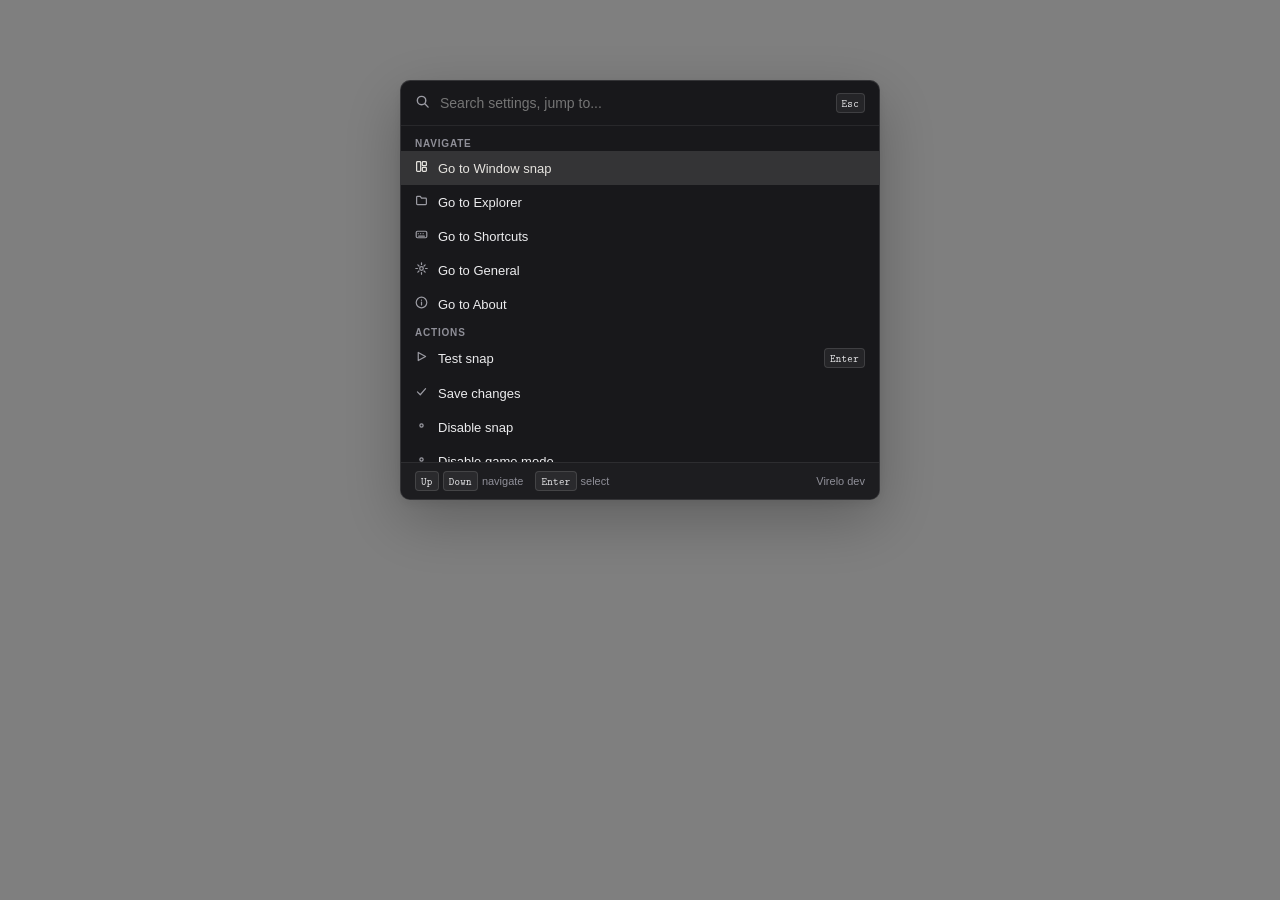
Test case: CommandPalette › Shows a no-results message for an unmatched filter.
Type "zzzznonexistent" into the dropdown named "Search commands" at (633, 103), box [440,95,826,111]
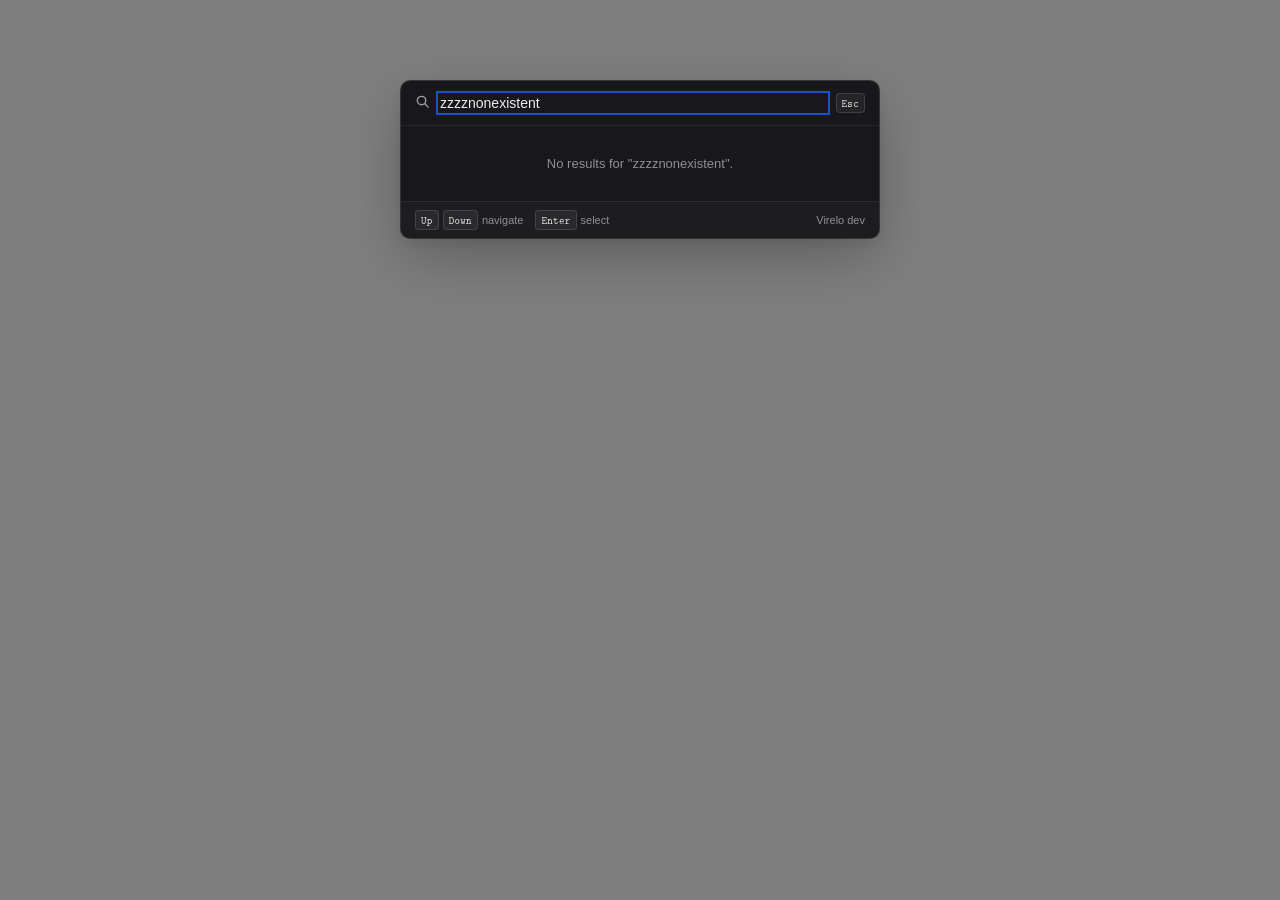
Expected: the message reads "No results for \"zzzznonexistent\".", [547,156,733,171]
